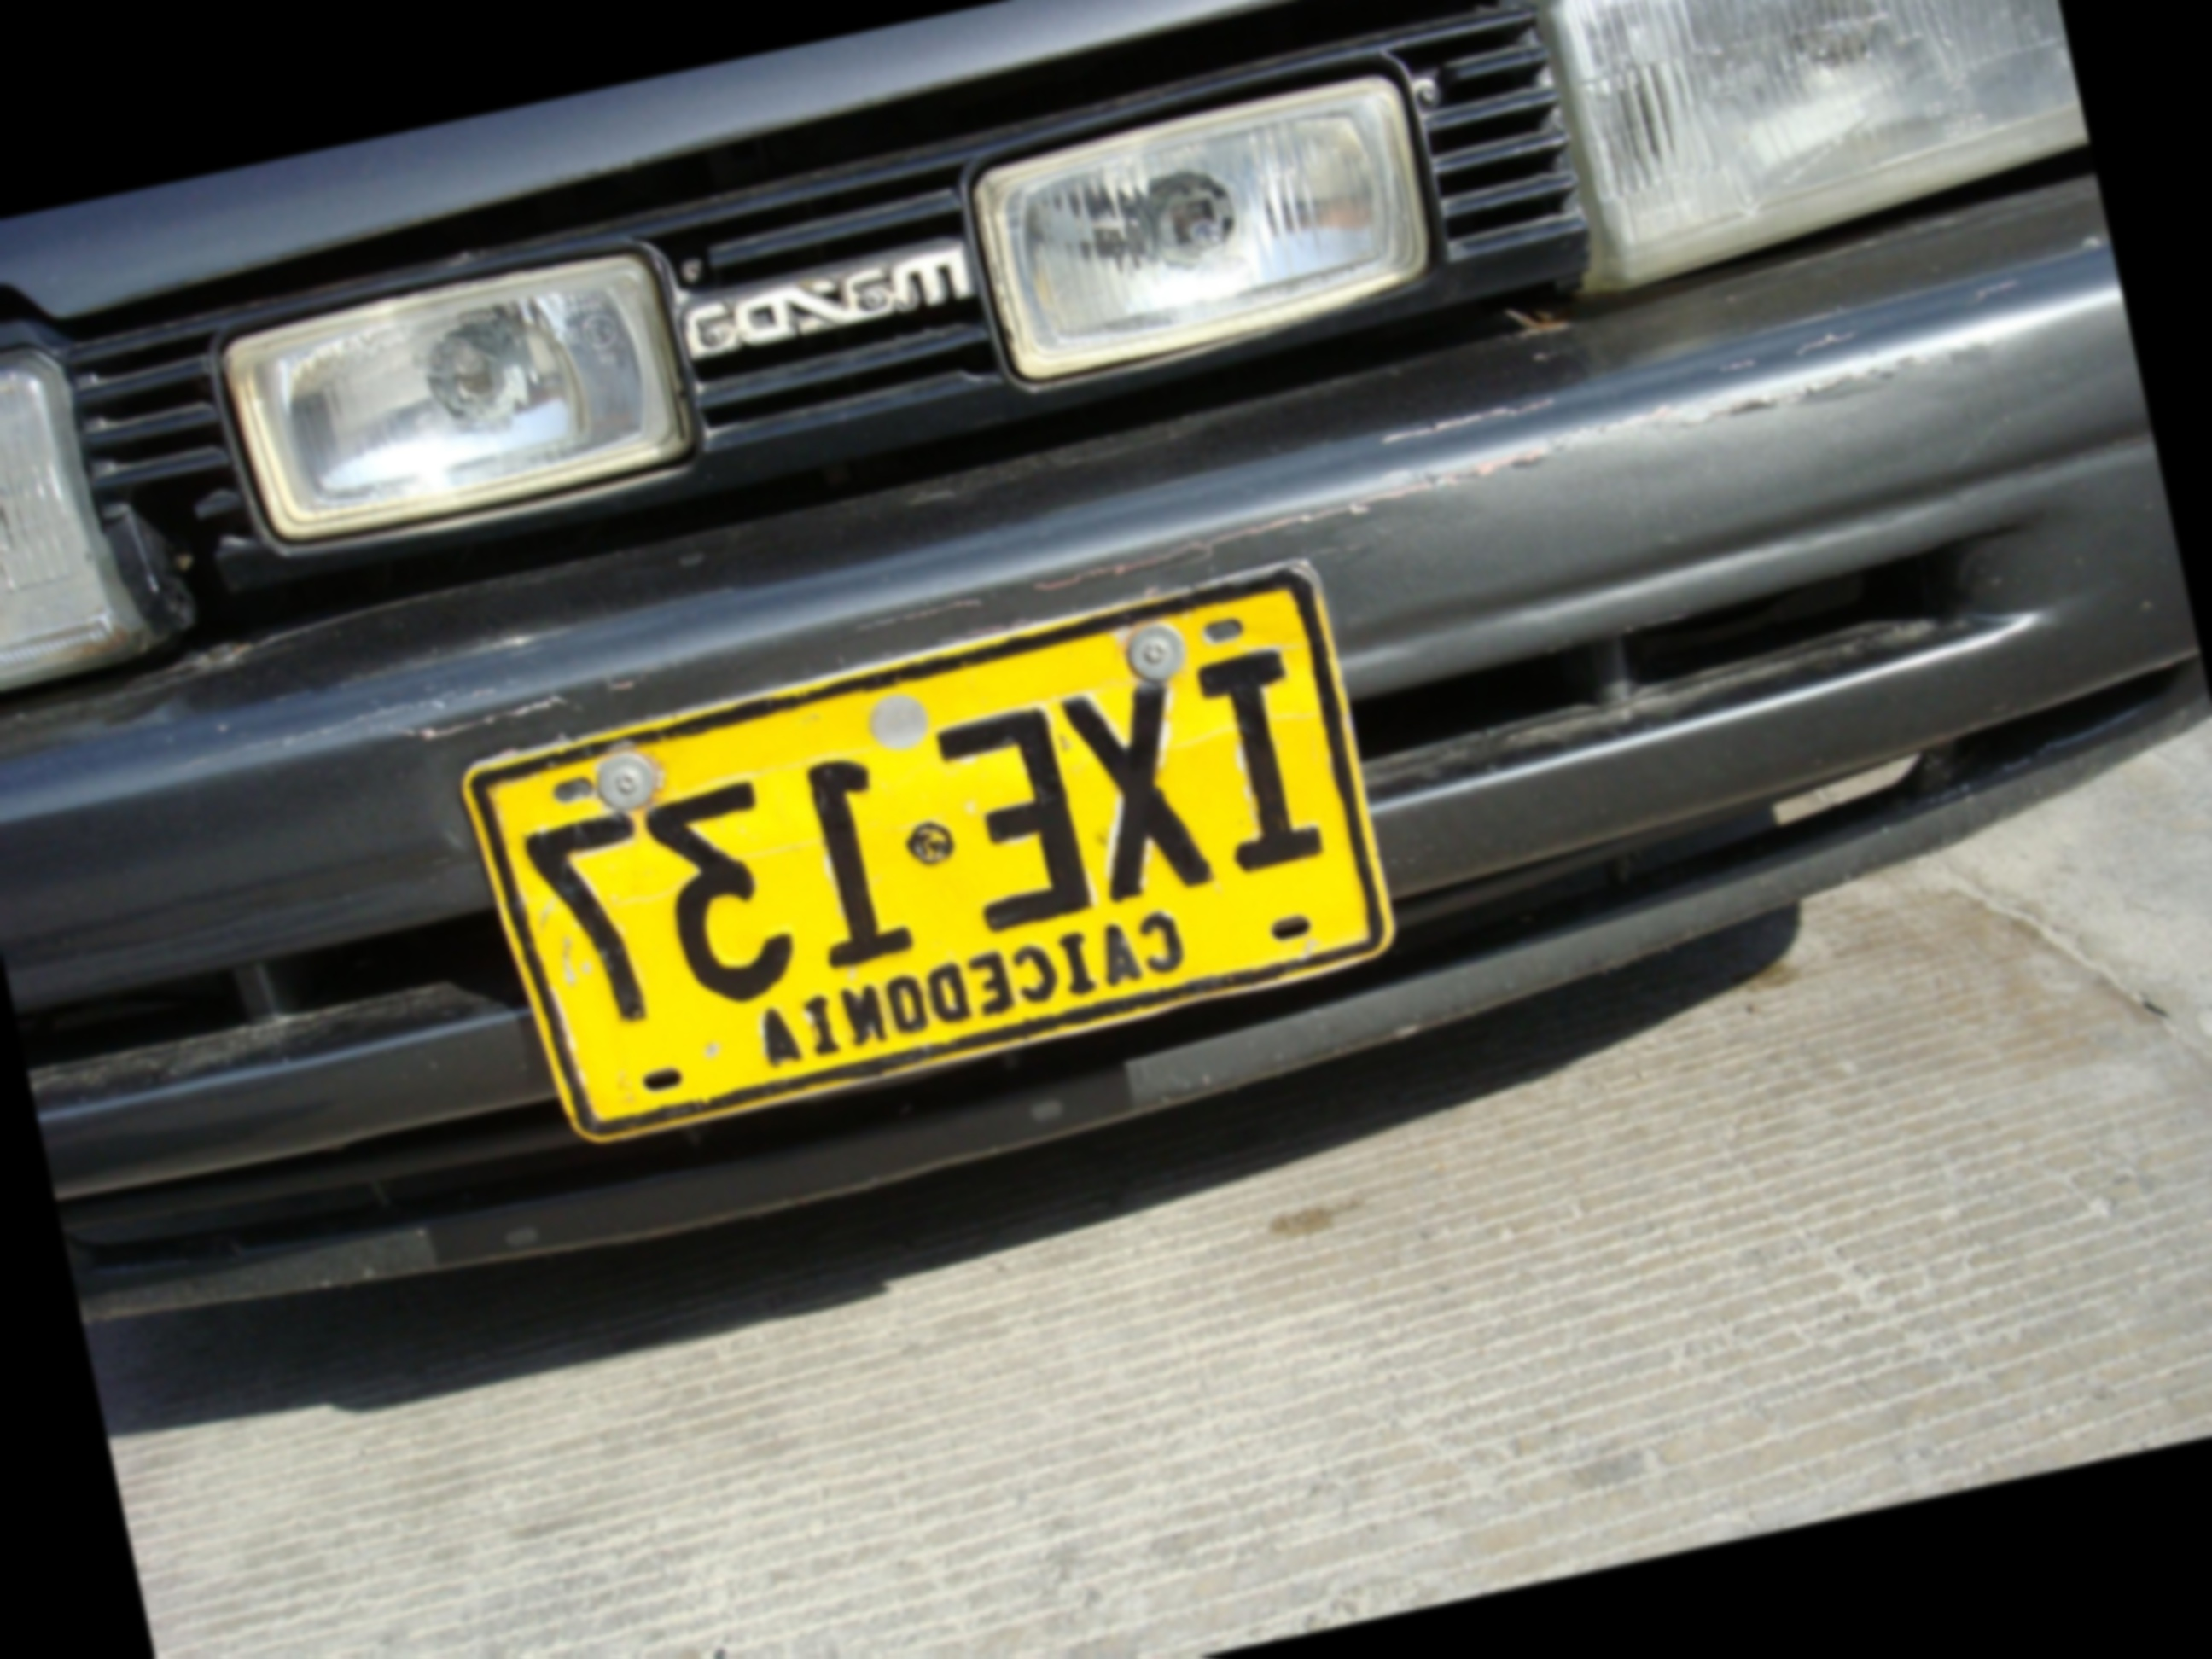placas: (421, 535, 1431, 1191)
